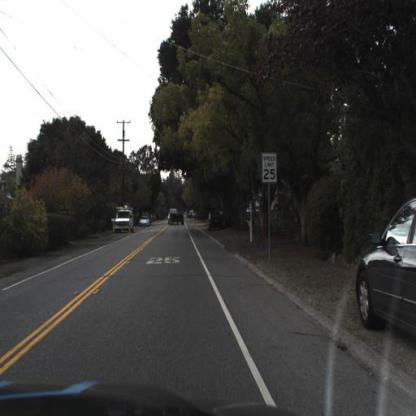car: (357, 192, 416, 344), (207, 209, 226, 234), (116, 209, 135, 233), (168, 207, 187, 227)
